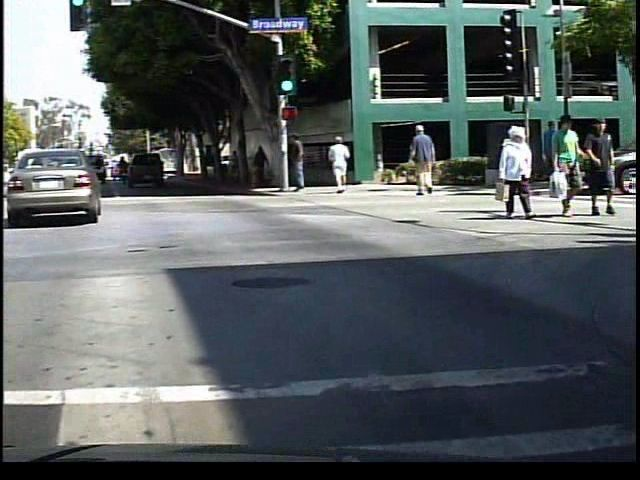person: (496, 124, 545, 221), (552, 115, 588, 219), (588, 116, 622, 218), (410, 124, 445, 197), (542, 115, 567, 190), (294, 130, 318, 200), (331, 135, 358, 197), (258, 141, 278, 191), (240, 146, 255, 190)
